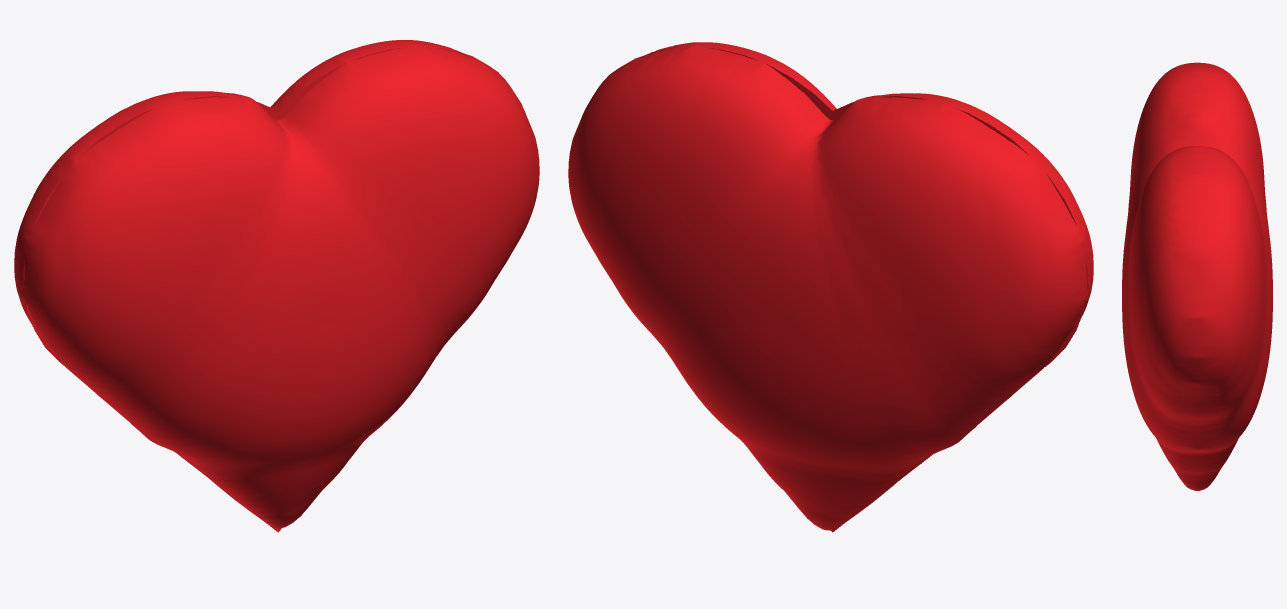
File: heart.fbx
3 renders of one model, left to right at view 1: azimuth 30°, elevation 25°; view 2: azimuth 150°, elevation 25°; view 3: azimuth 270°, elevation 25°, orthographic. The views are drawn at different scales.
Visible parts, largest first — view 1: root (×2); view 2: root (×2); view 3: root.
Part boxes in pixels (x1,y1,x2,y2): root (×2): (14,40,539,532); root (×2): (568,42,1093,532); root: (1122,62,1272,490).
Size of the model in its own units: 1.18 by 1.01 by 0.3674.
Materials: 2 (1 with a texture image).
